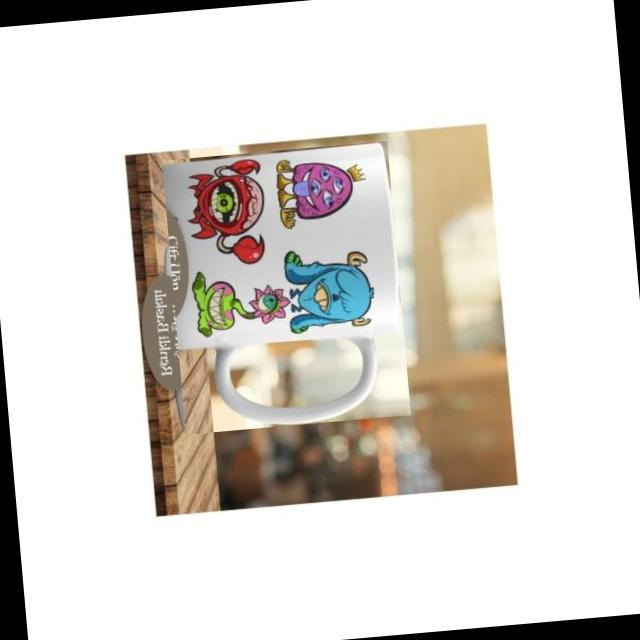Coffee Mug: (160, 140, 410, 434)
